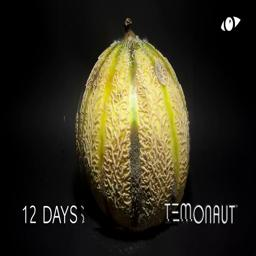Melon Semifresh: (74, 18, 193, 228)
